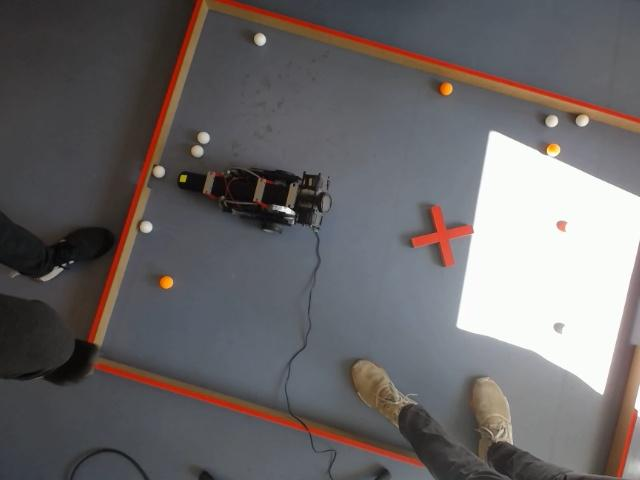orange: (546, 143, 561, 158), (439, 82, 453, 96), (160, 276, 174, 290)
robot: (178, 167, 332, 232)
robot-front: (178, 172, 200, 191)
white: (575, 113, 590, 127), (545, 114, 559, 128), (190, 145, 204, 158), (253, 33, 266, 46), (197, 132, 210, 145), (140, 220, 153, 233), (153, 165, 166, 177)
